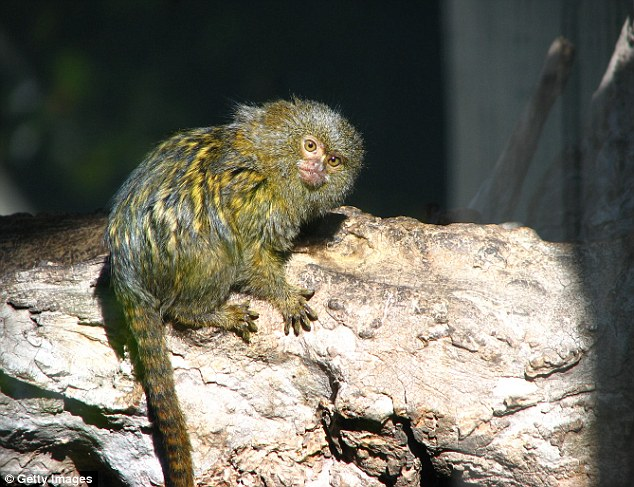PygmyMarmoset: (77, 96, 357, 341)
